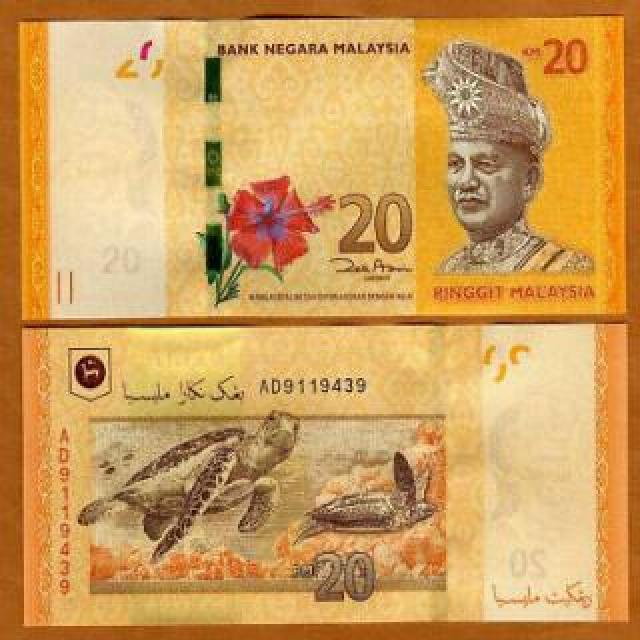20 Ringgit: (14, 16, 630, 319), (20, 322, 631, 623)
